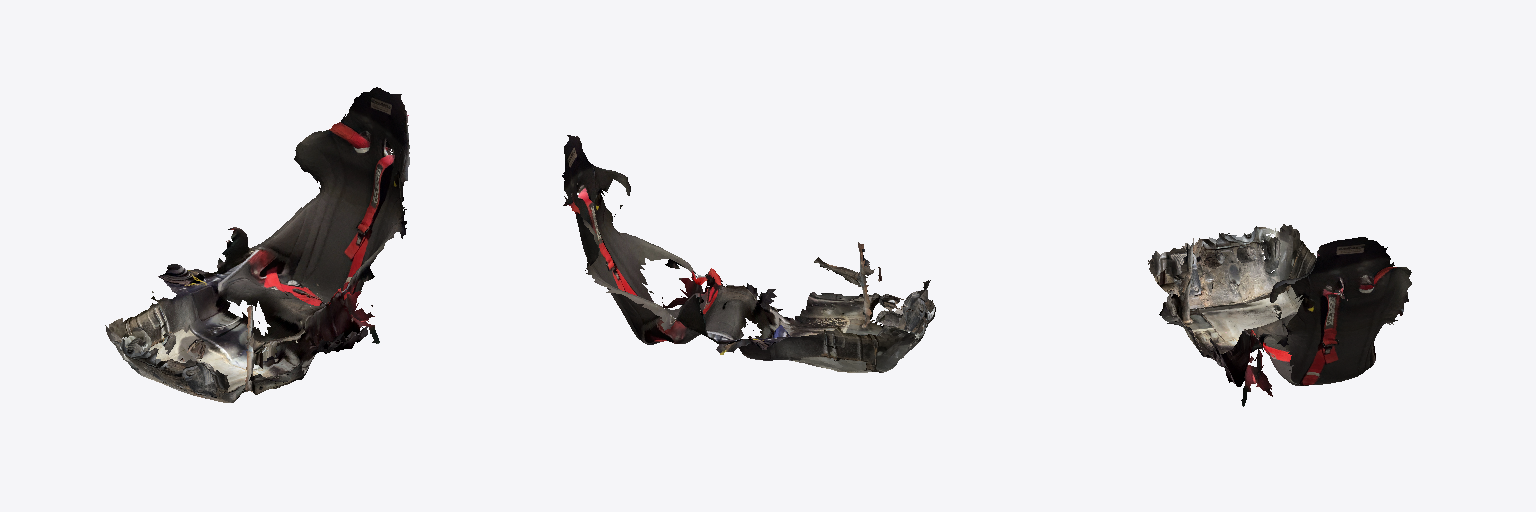
3 renders of one model, left to right at view 1: azimuth 30°, elevation 25°; view 2: azimuth 150°, elevation 25°; view 3: azimuth 270°, elevation 25°, orthographic.
Parts seen in each view (by area): view 1: Untitled_Scan-2024-Oct-03; view 2: Untitled_Scan-2024-Oct-03; view 3: Untitled_Scan-2024-Oct-03.
Boxes of the visible parts, <box> form: Untitled_Scan-2024-Oct-03: <box>105,87,409,402</box>; Untitled_Scan-2024-Oct-03: <box>562,135,935,372</box>; Untitled_Scan-2024-Oct-03: <box>1148,224,1411,406</box>.
Size of the model in its own units: 1.59 by 0.8671 by 1.05.
4 materials, 4 textured.